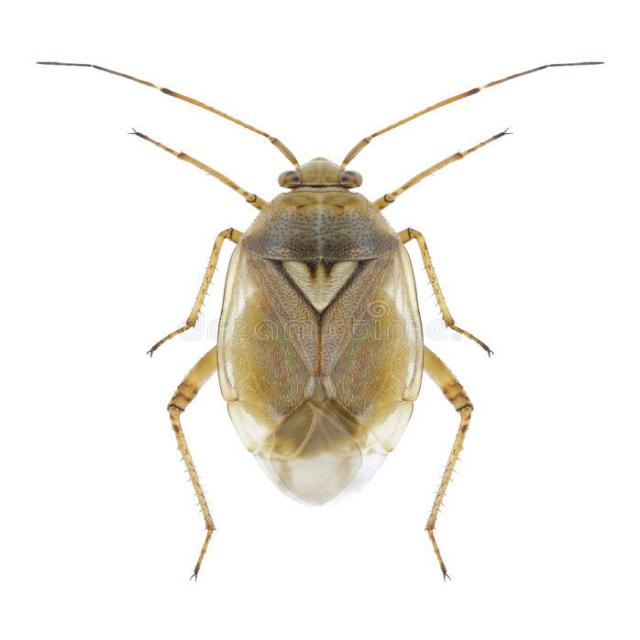Miridae-Adult-: (23, 43, 611, 584)
